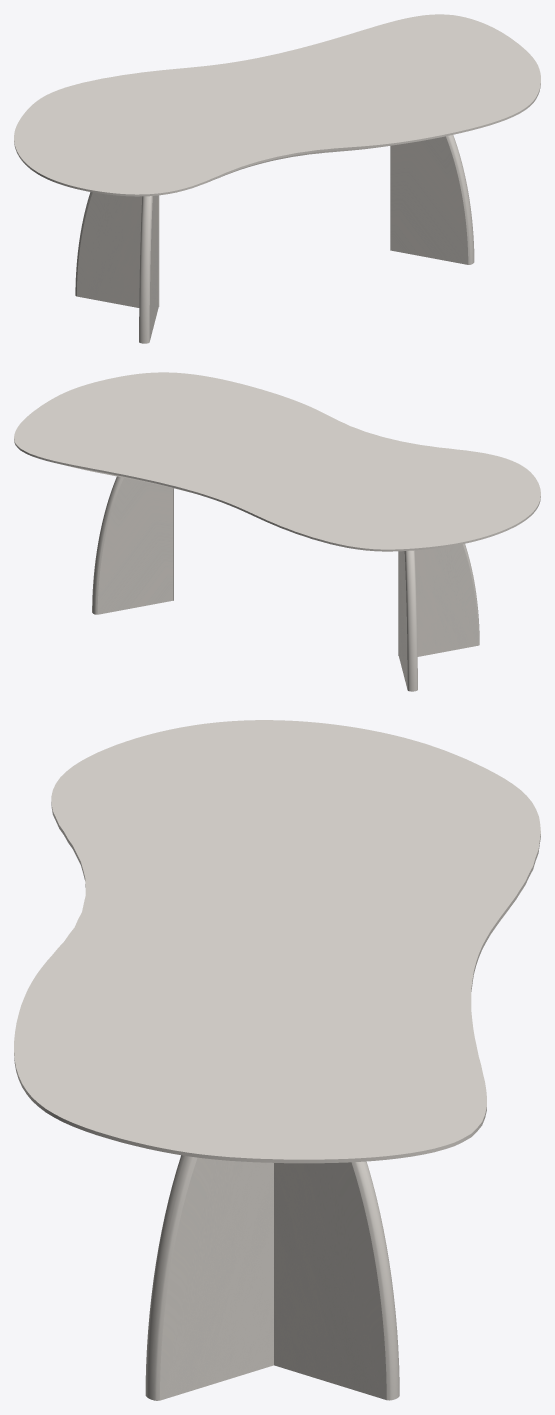
The model's file is pearlwhite_wave_facet_newtable2.glb.
3 views of the same model, one above another, from view 1: azimuth 30°, elevation 25°; view 2: azimuth 150°, elevation 25°; view 3: azimuth 270°, elevation 25° (orthographic). The views are drawn at different scales.
Visible parts, largest first — view 1: facet_wave, newtable2_singleright2, newtable2_singleleft1, newtable2_singleright1; view 2: facet_wave, newtable2_singleleft2, newtable2_singleright1, newtable2_singleleft1; view 3: facet_wave, newtable2_singleright2, newtable2_singleleft2.
Part boxes in pixels (<box>): facet_wave: <box>14,14,540,196</box>; newtable2_singleright2: <box>390,135,474,264</box>; newtable2_singleleft1: <box>75,192,159,307</box>; newtable2_singleright1: <box>139,195,158,343</box>; facet_wave: <box>14,372,540,551</box>; newtable2_singleleft2: <box>92,476,173,614</box>; newtable2_singleright1: <box>398,543,479,656</box>; newtable2_singleleft1: <box>398,550,417,691</box>; facet_wave: <box>14,720,540,1163</box>; newtable2_singleright2: <box>145,1155,273,1400</box>; newtable2_singleleft2: <box>274,1161,399,1400</box>.
Bounding box in the file's own units: 7.5 × 2.49 × 3.8.
1 material, 1 textured.
